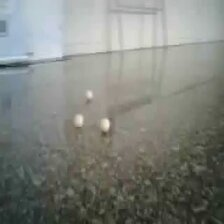w: (99, 118, 111, 133), (73, 114, 83, 127), (84, 89, 93, 100)
